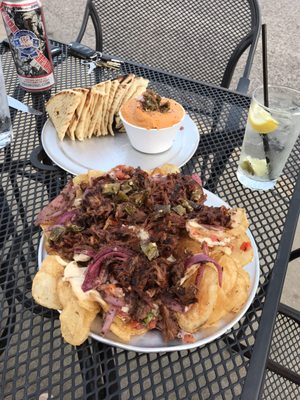pizza: (119, 88, 186, 155)
